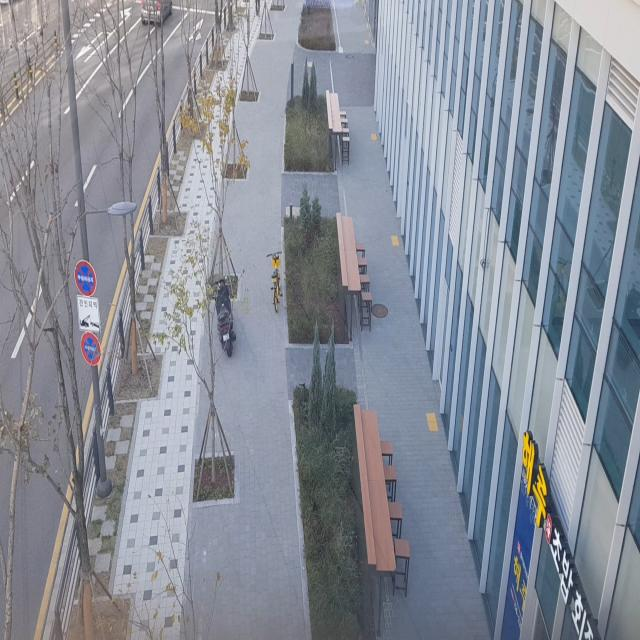Car: (136, 0, 182, 31)
